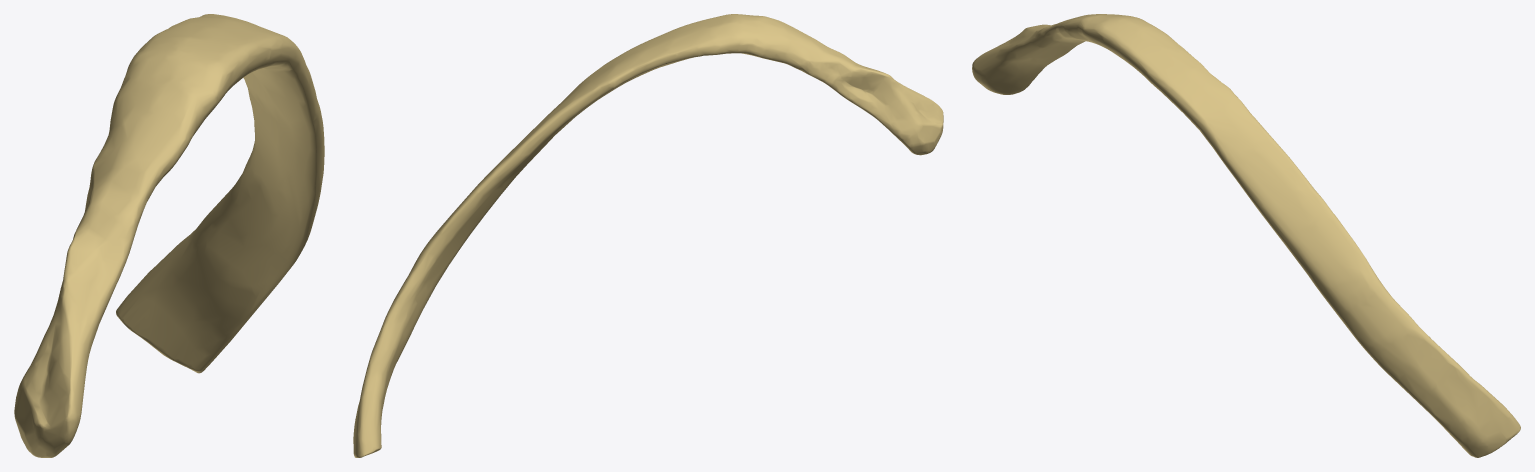
3 views of the same model, side by side, from view 1: azimuth 30°, elevation 25°; view 2: azimuth 150°, elevation 25°; view 3: azimuth 270°, elevation 25° (orthographic). The views are drawn at different scales.
Parts seen in each view (by area): view 1: 左侧第十肋; view 2: 左侧第十肋; view 3: 左侧第十肋.
Boxes of the visible parts, box(x1,y1,x2,y2) form: 左侧第十肋: box(14, 14, 324, 457); 左侧第十肋: box(353, 14, 943, 457); 左侧第十肋: box(972, 14, 1520, 457).
Size of the model in its own units: 0.1664 by 0.1612 by 0.2311.
